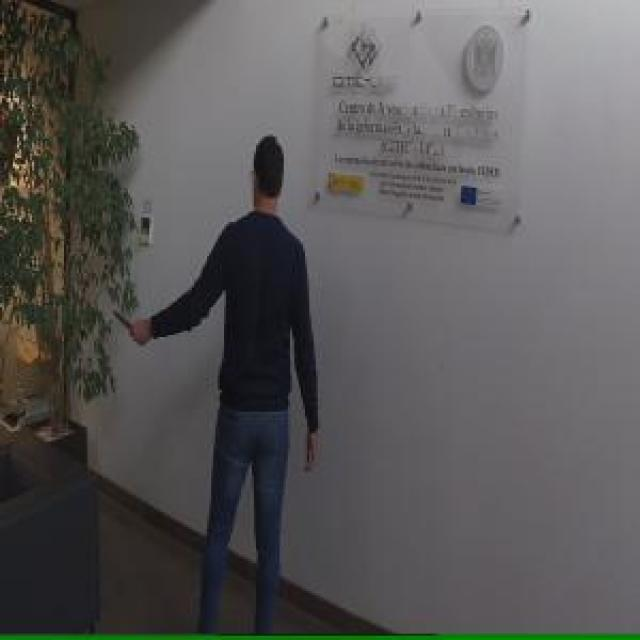knife: (111, 305, 145, 347)
